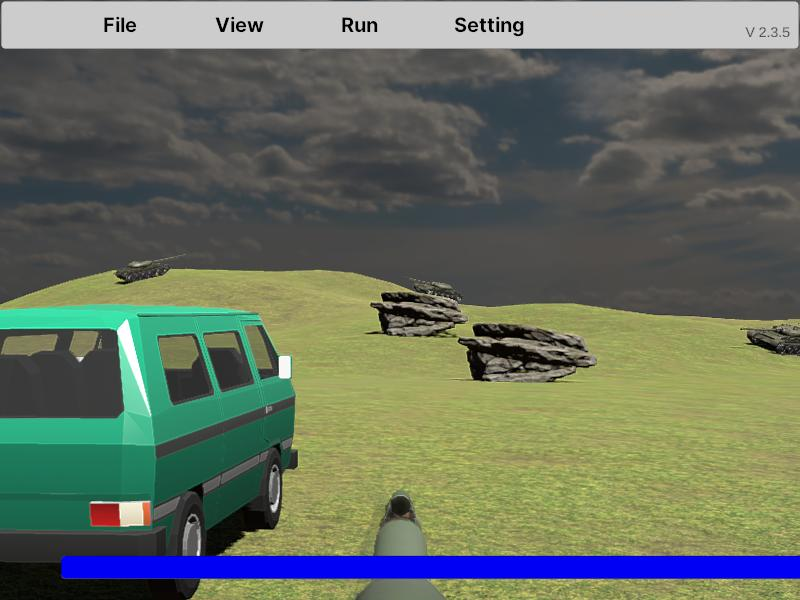Tank: (114, 252, 185, 283), (739, 325, 800, 356)
car: (0, 306, 297, 600)
